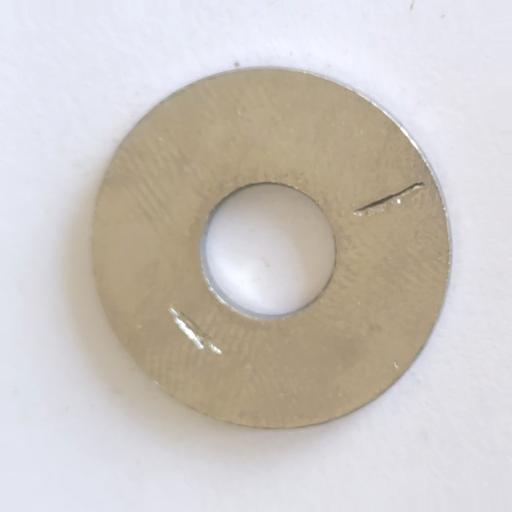scratch: (353, 181, 426, 218), (169, 306, 223, 354)
